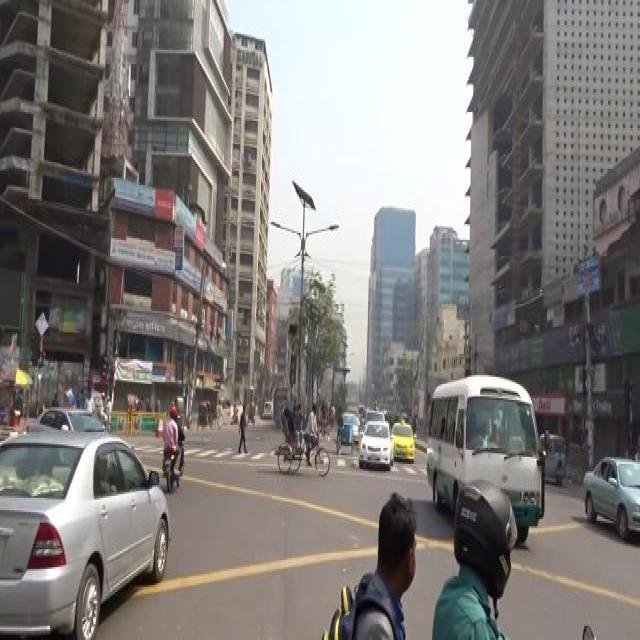10: (162, 441, 182, 491)
13: (276, 406, 330, 476), (196, 401, 208, 431), (62, 385, 80, 404), (125, 392, 137, 412), (247, 401, 256, 424)
16: (391, 418, 415, 460)
17: (539, 431, 567, 486)
20: (335, 422, 353, 452)
5: (0, 428, 171, 636), (581, 454, 639, 534), (26, 405, 110, 434), (358, 418, 394, 466), (342, 410, 358, 442)
8: (424, 373, 544, 527)
Truck: (273, 386, 297, 421)
